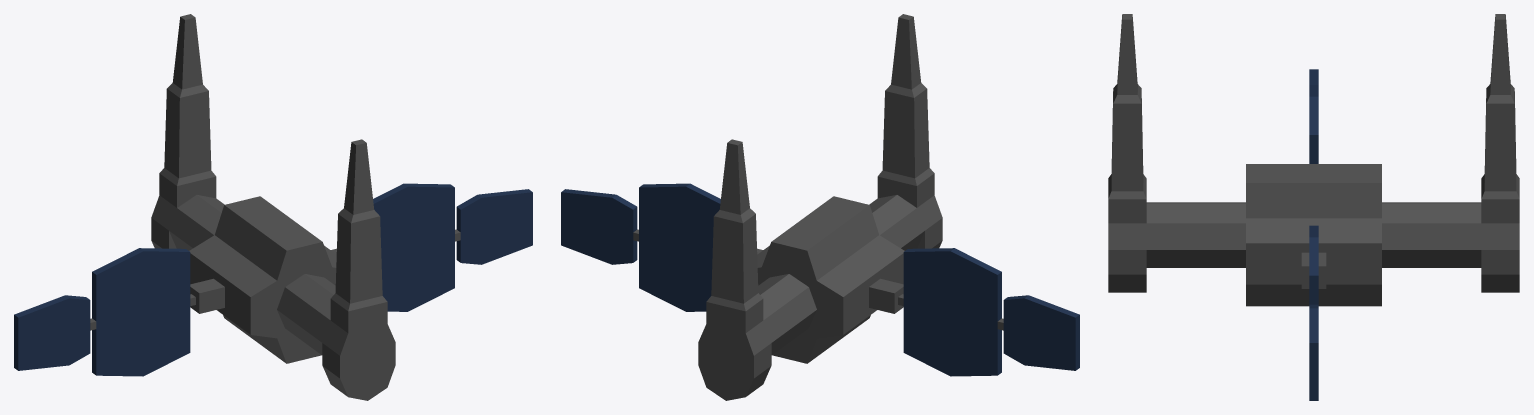
The model's file is satellite.fbx.
3 views of the same model, side by side, from view 1: azimuth 30°, elevation 25°; view 2: azimuth 150°, elevation 25°; view 3: azimuth 270°, elevation 25° (orthographic). The views are drawn at different scales.
Parts seen in each view (by area): view 1: SatelliteMain, SatelliteCannons; view 2: SatelliteMain, SatelliteCannons; view 3: SatelliteCannons, SatelliteMain.
Boxes of the visible parts, x1,y1,x2,y2 form: SatelliteMain: (14, 183, 532, 376); SatelliteCannons: (151, 14, 395, 400); SatelliteMain: (561, 183, 1079, 376); SatelliteCannons: (698, 14, 942, 400); SatelliteCannons: (1108, 14, 1519, 292); SatelliteMain: (1246, 69, 1381, 400).
Bounding box in the file's own units: 951 × 464 × 604.
